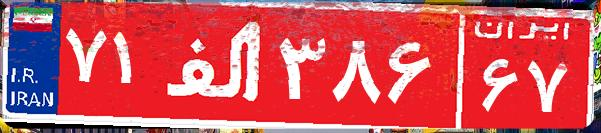1: (110, 28, 158, 105)
3: (273, 28, 330, 110)
6: (385, 28, 445, 110), (475, 38, 525, 113)
7: (57, 26, 110, 107), (525, 38, 570, 115)
8: (330, 28, 385, 110)
الف: (158, 15, 273, 115)
